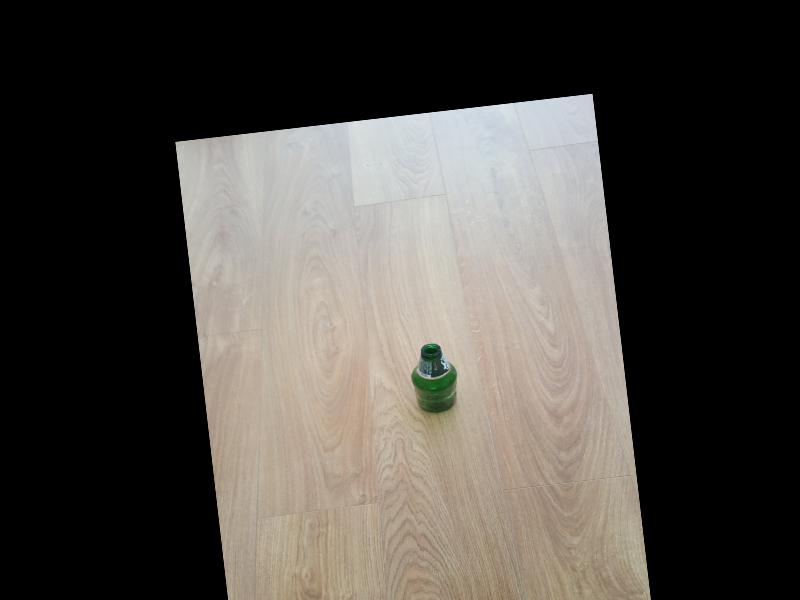Beer: (404, 341, 459, 416)
